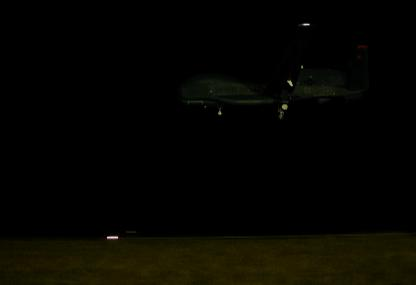P3: (176, 23, 372, 121)
